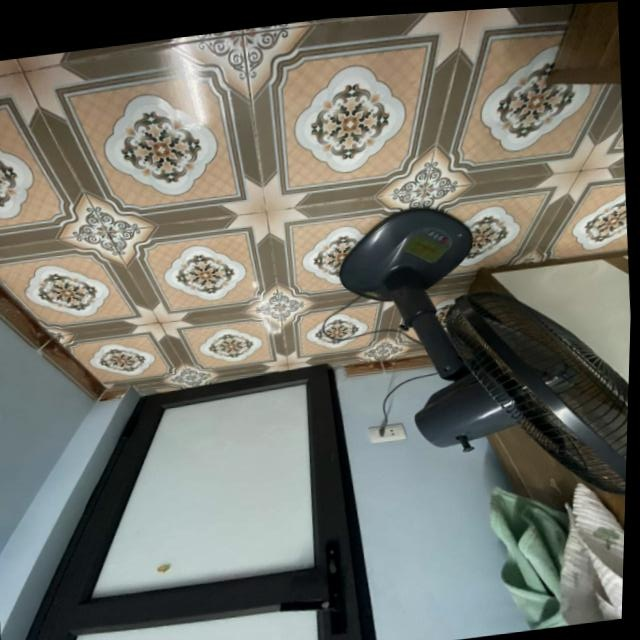outlet: (367, 421, 408, 443)
